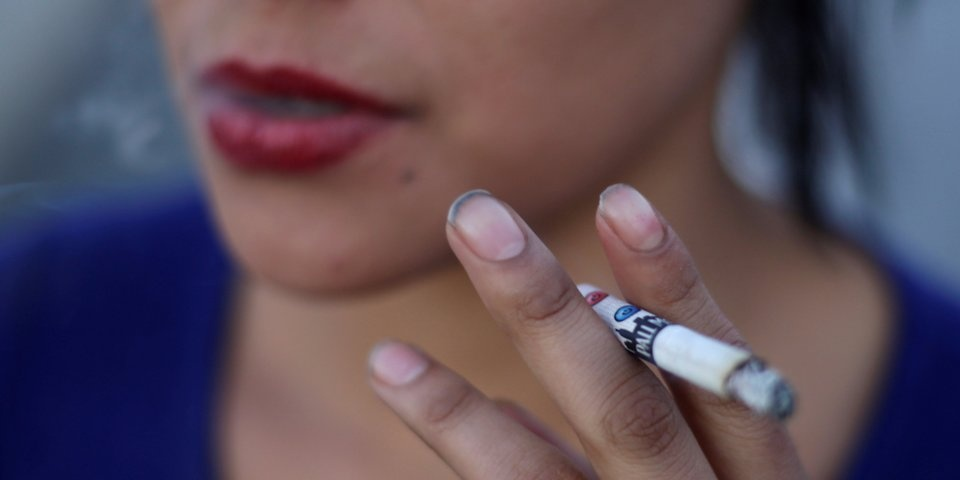sigaretta: (559, 254, 794, 408)
